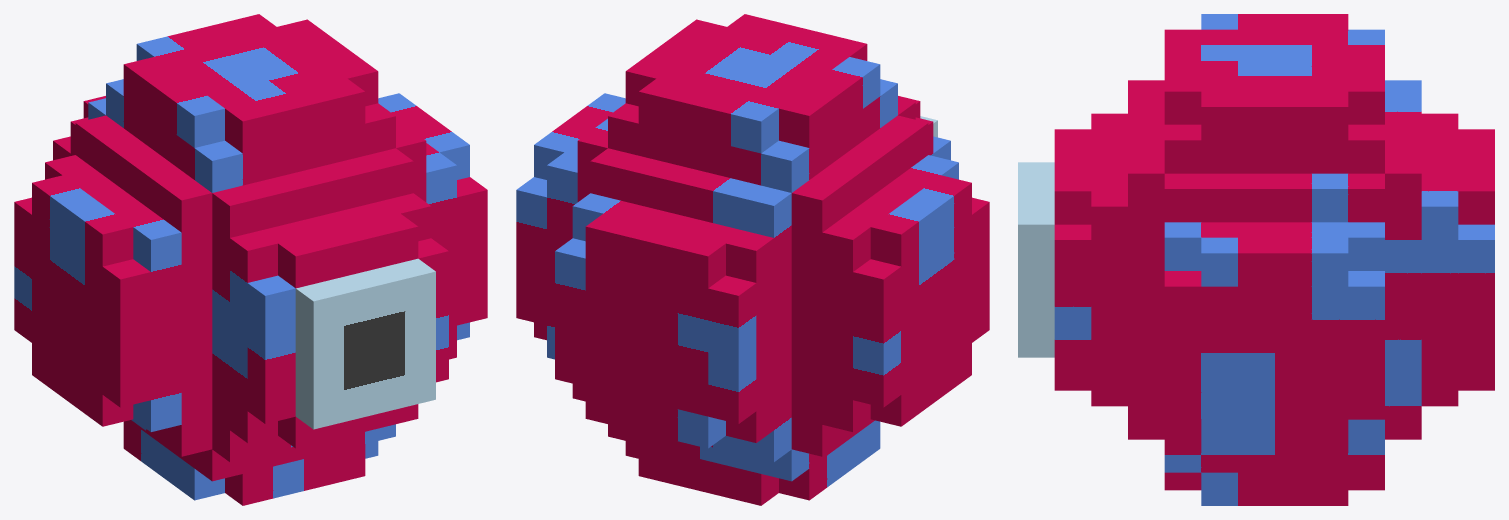
The model's file is minimonster_spawned_phase.dae.
The picture shows the model from 3 angles, left to right: view 1: azimuth 30°, elevation 25°; view 2: azimuth 150°, elevation 25°; view 3: azimuth 270°, elevation 25°; orthographic projection. The views are drawn at different scales.
Parts seen in each view (by area): view 1: minimonster_spawned_phase; view 2: minimonster_spawned_phase; view 3: minimonster_spawned_phase.
Boxes of the visible parts, box(x1,y1,x2,y2) form: minimonster_spawned_phase: box(14, 14, 487, 505); minimonster_spawned_phase: box(516, 14, 989, 505); minimonster_spawned_phase: box(1018, 14, 1494, 505).
Bounding box in the file's own units: 12 × 12 × 13.
